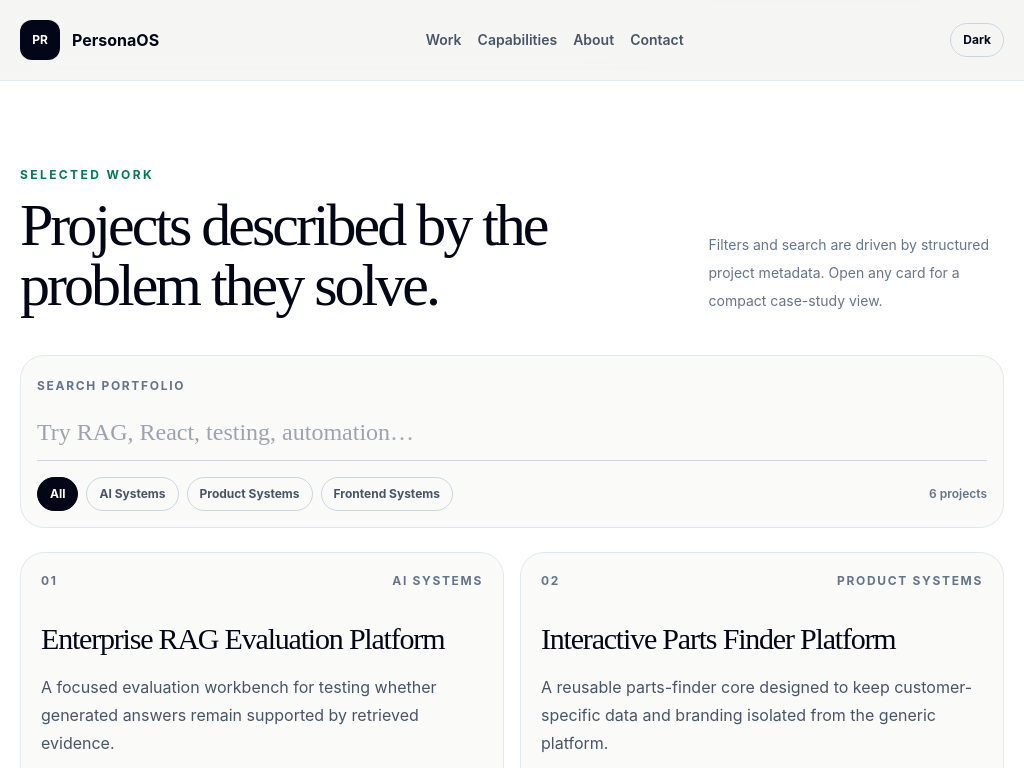
it: PersonaOS › filters projects by search and category
The image size is (1024, 768).
(page scrolled)
Expected: the text "6 projects" is shown, [929,486,987,502]
Type "RAG" into the search field labelled "Search portfolio". click: (512, 432)
box: [37,404,987,461]
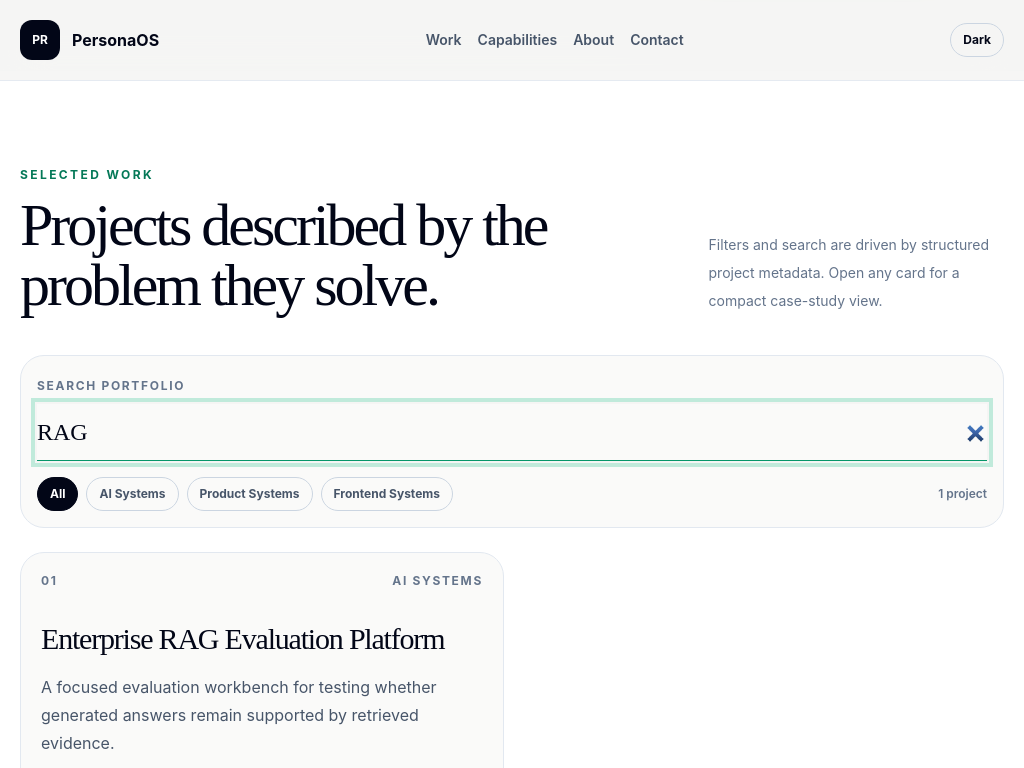
Expected: the heading "Enterprise RAG Evaluation Platform" is shown, [41,621,483,657]
Result: the text "1 project" is shown at [938,486,987,502]
Clear the search field labelled "Search portfolio". click: (512, 432)
box: [37,404,987,461]
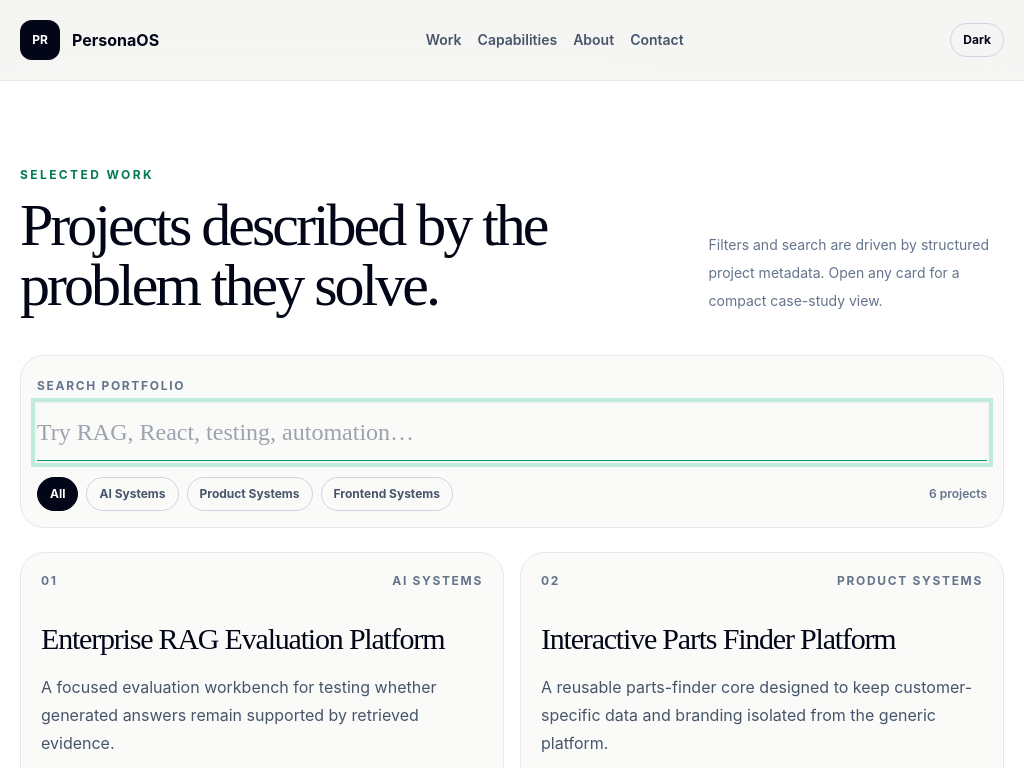
Click the button "Frontend Systems". click: (387, 494)
box: [320,477,453,511]
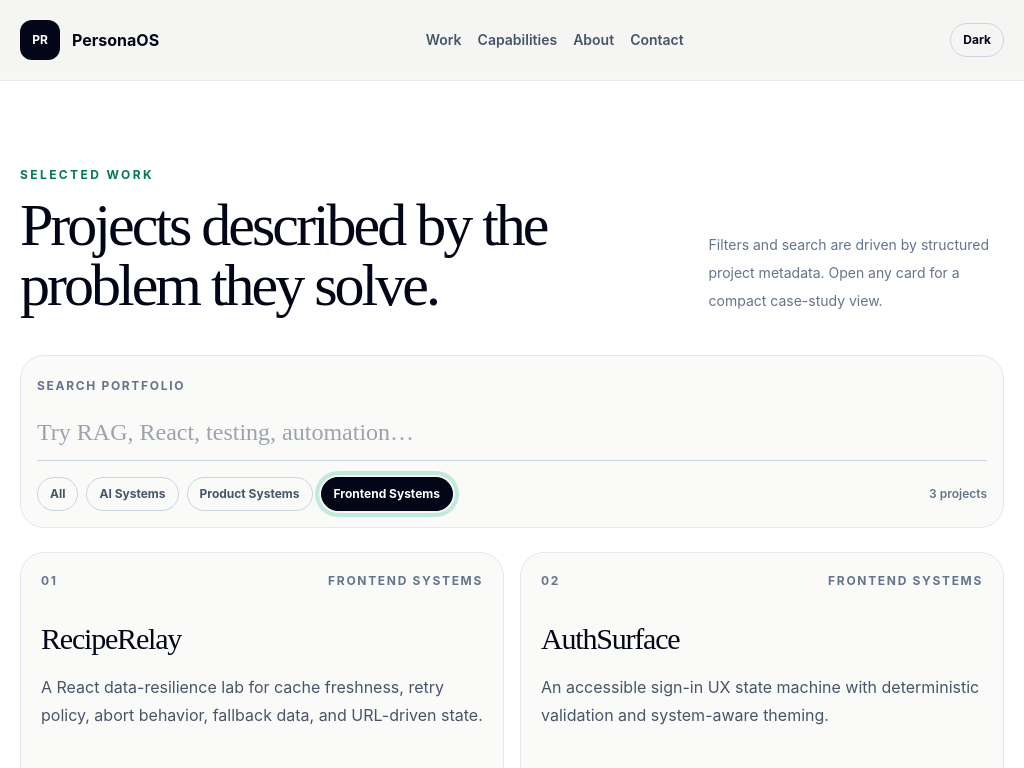
Result: the text "3 projects" is shown at [929,486,987,502]
